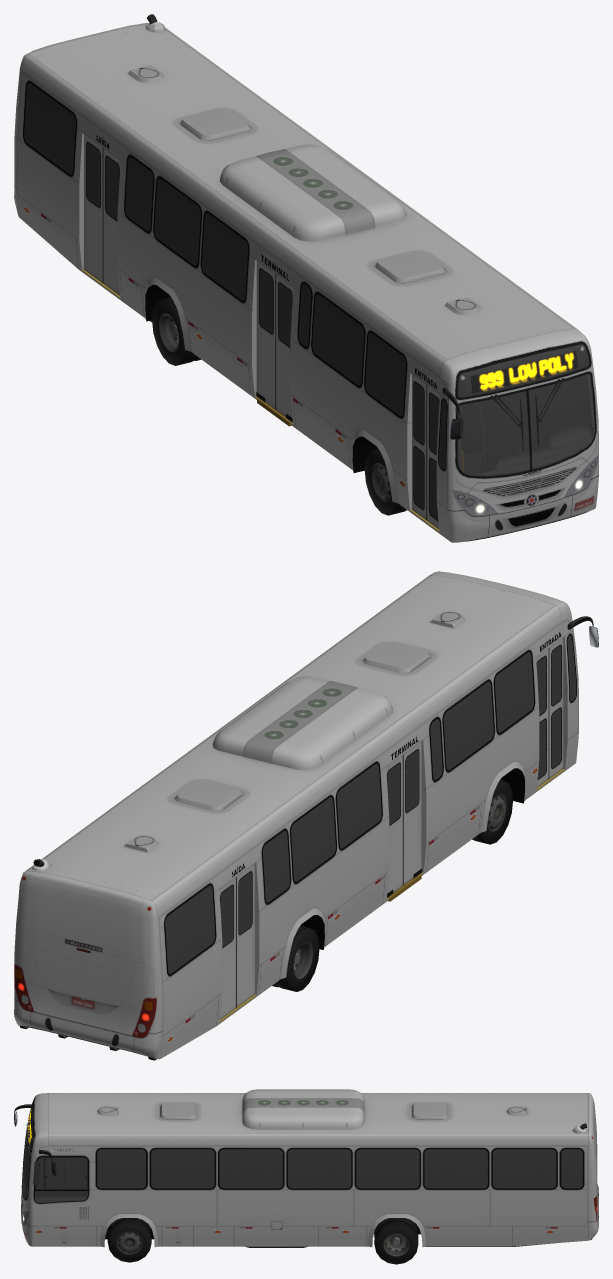
Rendered from busao.glb.
The picture shows the model from 3 angles, top to bottom: view 1: azimuth 30°, elevation 25°; view 2: azimuth 150°, elevation 25°; view 3: azimuth 270°, elevation 25°; orthographic projection. The views are drawn at different scales.
Visible parts, largest first — view 1: Torino-07.030; view 2: Torino-07.030; view 3: Torino-07.030.
Boxes of the visible parts, x1,y1,x2,y2 form: Torino-07.030: (14, 14, 598, 542); Torino-07.030: (14, 571, 598, 1060); Torino-07.030: (14, 1089, 598, 1264).
Bounding box in the file's own units: 2.81 × 3.42 × 13.02.
1 material, 1 textured.
